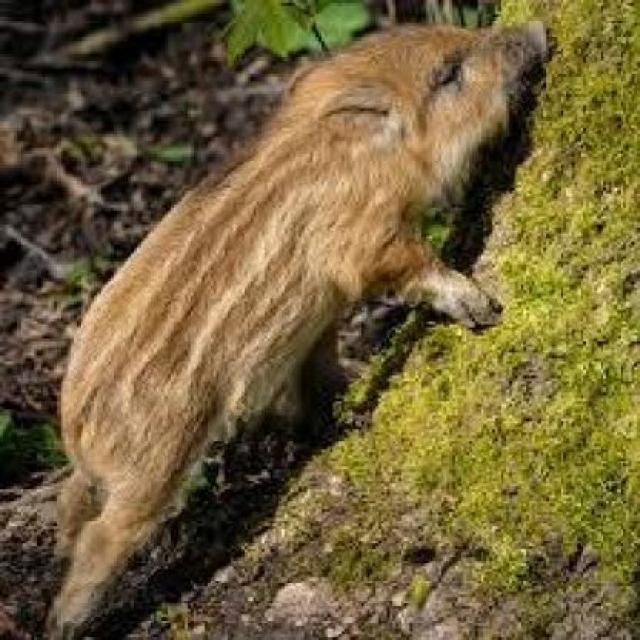wildboar: (24, 7, 553, 640)
